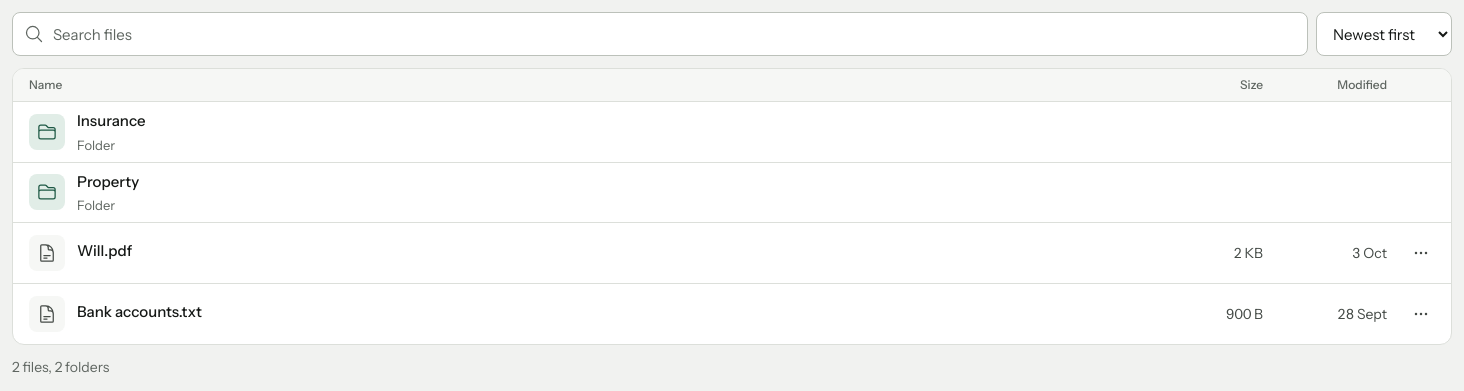
Test case: FileList › filters by the search box, folders included
The image size is (1464, 391).
Type "bank" into the search field labelled "Search files".
click(660, 34); type("bank")  # box [12,12,1308,56]
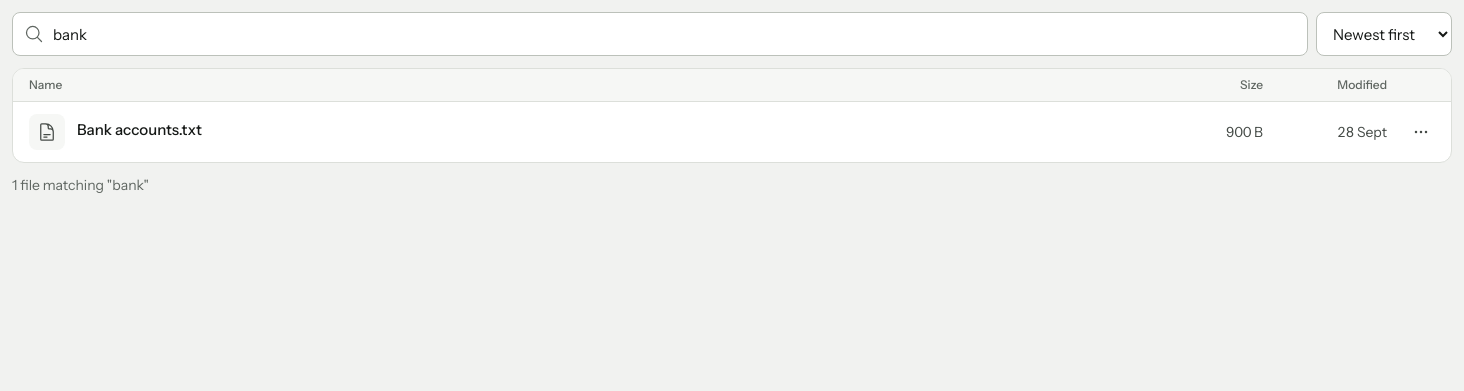
Expected: the text "Bank accounts.txt" is shown, [77,120,202,139]
Result: the number of list items is 1 at [13,102,1451,162]
